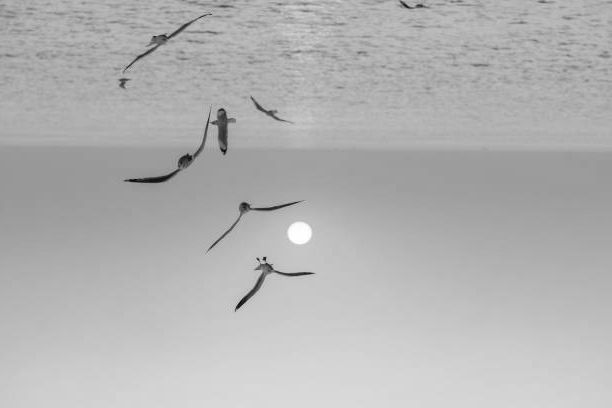Bird: (122, 104, 213, 188), (122, 9, 210, 76), (204, 196, 303, 254), (233, 254, 315, 313), (245, 94, 297, 130), (207, 104, 241, 155), (109, 70, 134, 92)
